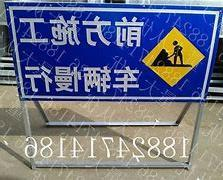sign: (7, 5, 223, 103)
